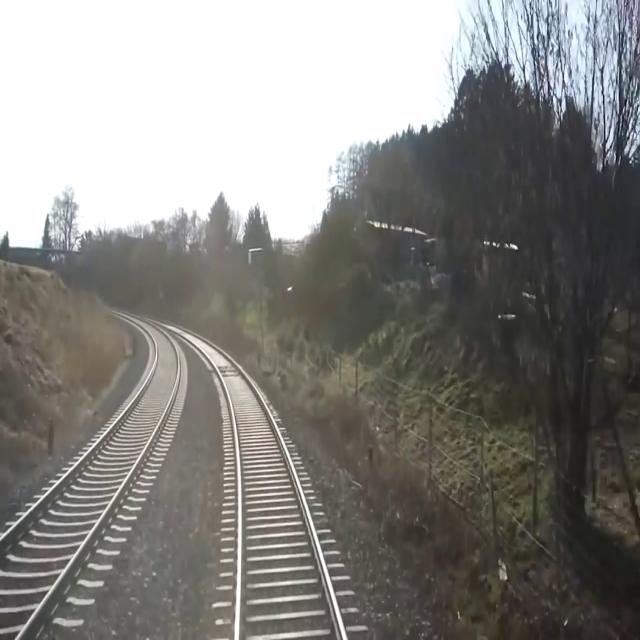rail-track: (1, 321, 177, 633), (178, 329, 342, 639)
